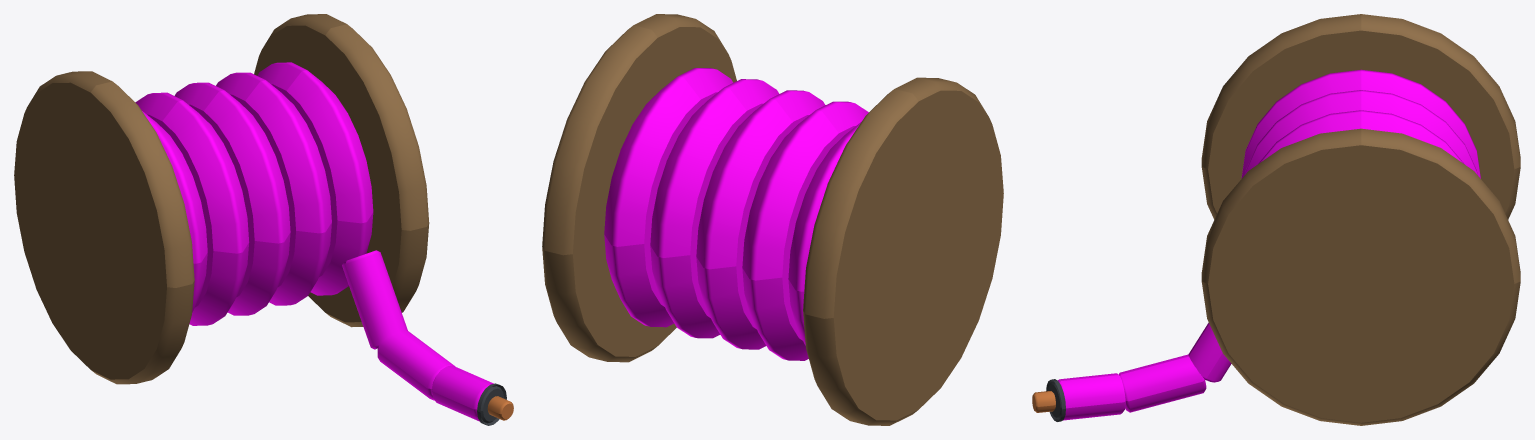
The model's file is objet_cable.glb.
3 views of the same model, side by side, from view 1: azimuth 30°, elevation 25°; view 2: azimuth 150°, elevation 25°; view 3: azimuth 270°, elevation 25° (orthographic). The views are drawn at different scales.
Parts seen in each view (by area): view 1: cable_bois.002, cable_teinte.002, cable_teinte_sombre.002, cable_cuivre.002; view 2: cable_bois.002, cable_teinte.002; view 3: cable_bois.002, cable_teinte.002, cable_teinte_sombre.002, cable_cuivre.002.
Boxes of the visible parts, x1=… form: cable_bois.002: x1=14, y1=14, x2=429, y2=384; cable_teinte.002: x1=135, y1=62, x2=493, y2=421; cable_teinte_sombre.002: x1=477, y1=383, x2=506, y2=425; cable_cuivre.002: x1=487, y1=396, x2=513, y2=420; cable_bois.002: x1=542, y1=14, x2=1003, y2=425; cable_teinte.002: x1=604, y1=68, x2=868, y2=360; cable_bois.002: x1=1201, y1=14, x2=1520, y2=425; cable_teinte.002: x1=1058, y1=69, x2=1480, y2=420; cable_teinte_sombre.002: x1=1046, y1=379, x2=1065, y2=421; cable_cuivre.002: x1=1032, y1=391, x2=1055, y2=412.
Size of the model in its own units: 0.1935 by 0.2 by 0.3062.
